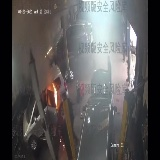fire: (50, 79, 59, 109)
